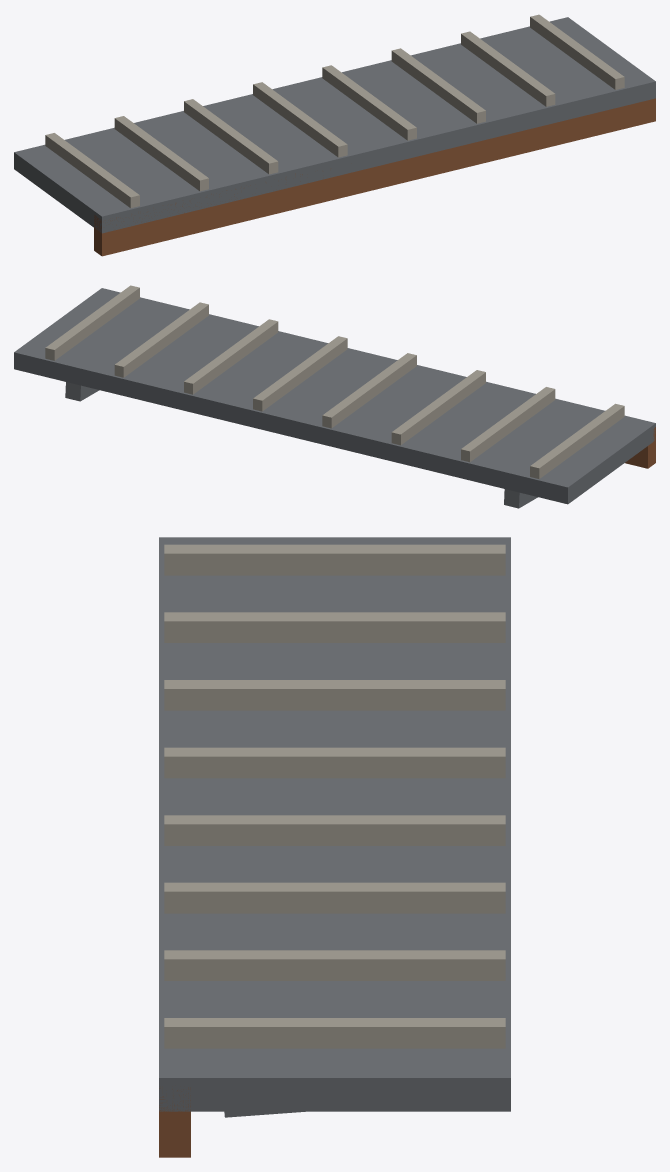
File: building-warehouse-entry.glb
The picture shows the model from 3 angles, top to bottom: view 1: azimuth 30°, elevation 25°; view 2: azimuth 150°, elevation 25°; view 3: azimuth 270°, elevation 25°; orthographic projection. The views are drawn at different scales.
Parts seen in each view (by area): view 1: frontage; view 2: frontage; view 3: frontage.
Part boxes in pixels (box(x1,y1,x2,y2)): frontage: box(14, 14, 655, 256); frontage: box(14, 285, 655, 508); frontage: box(159, 537, 510, 1157).
Bounding box in the file's own units: 2.4 × 0.24 × 0.66.
